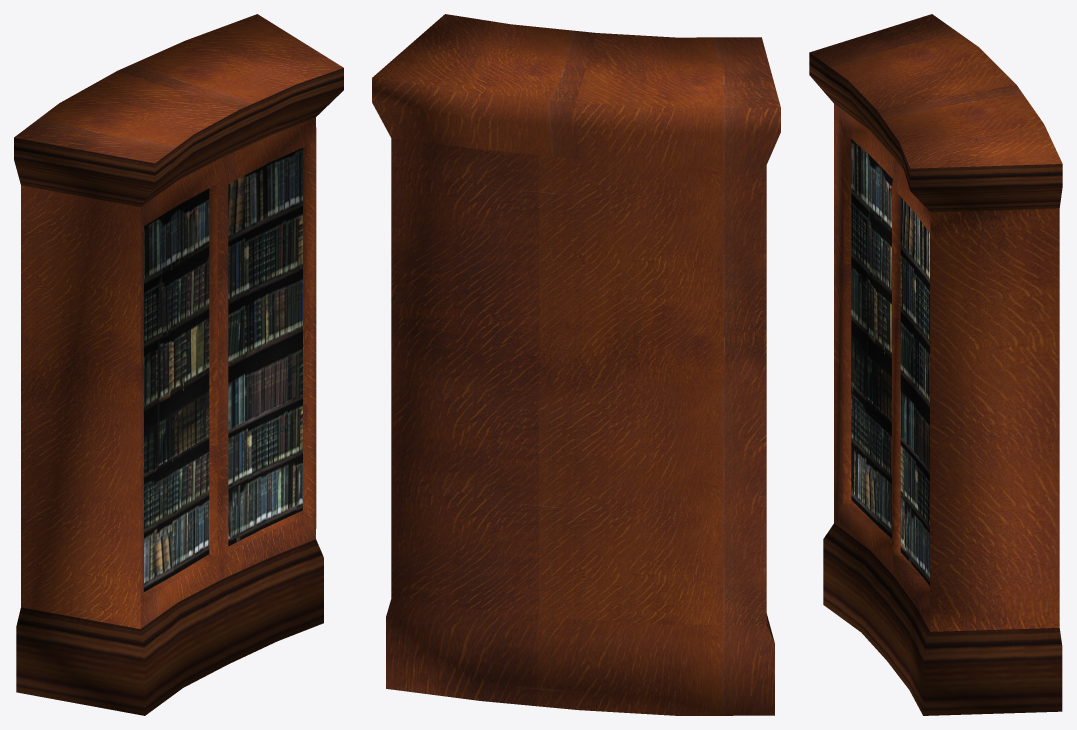
Rendered from BookcaseCurvedShortshort2.fbx.
The picture shows the model from 3 angles, left to right: view 1: azimuth 30°, elevation 25°; view 2: azimuth 150°, elevation 25°; view 3: azimuth 270°, elevation 25°; orthographic projection. The views are drawn at different scales.
Parts seen in each view (by area): view 1: Bookcaselong1.005; view 2: Bookcaselong1.005; view 3: Bookcaselong1.005.
Part boxes in pixels (box(x1,y1,x2,y2)): Bookcaselong1.005: box(14, 14, 343, 715); Bookcaselong1.005: box(372, 14, 780, 715); Bookcaselong1.005: box(809, 14, 1062, 715).
Size of the model in its own units: 200 by 334 by 139.
